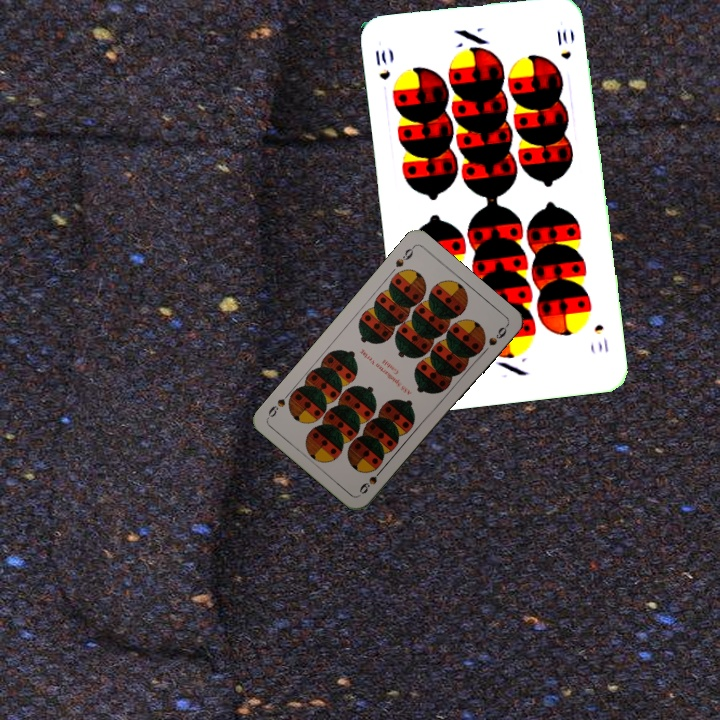S10: (371, 46, 393, 82), (590, 320, 611, 355)
S9: (355, 463, 386, 497), (391, 242, 417, 270)
